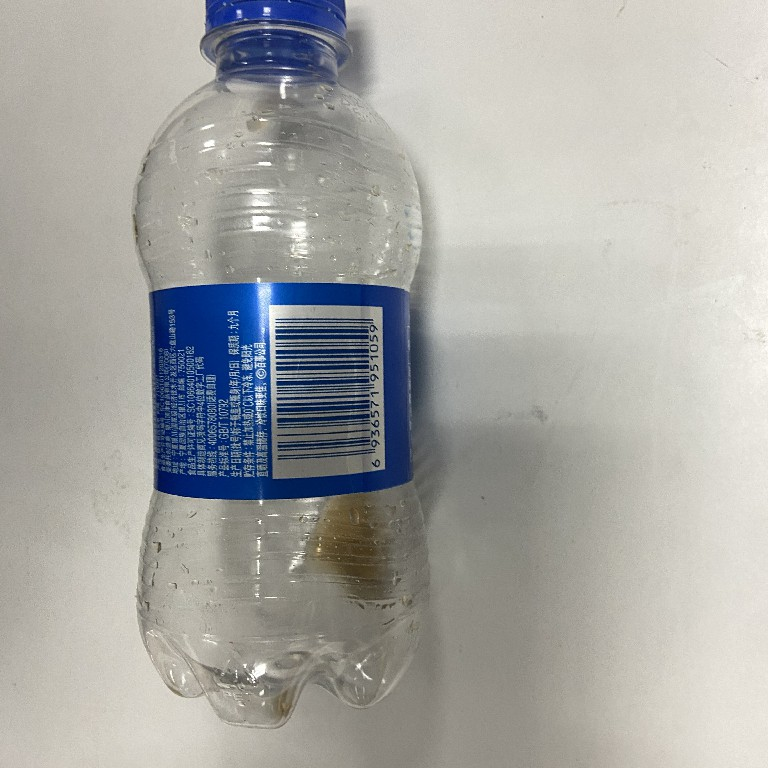bottle: (125, 1, 429, 735)
